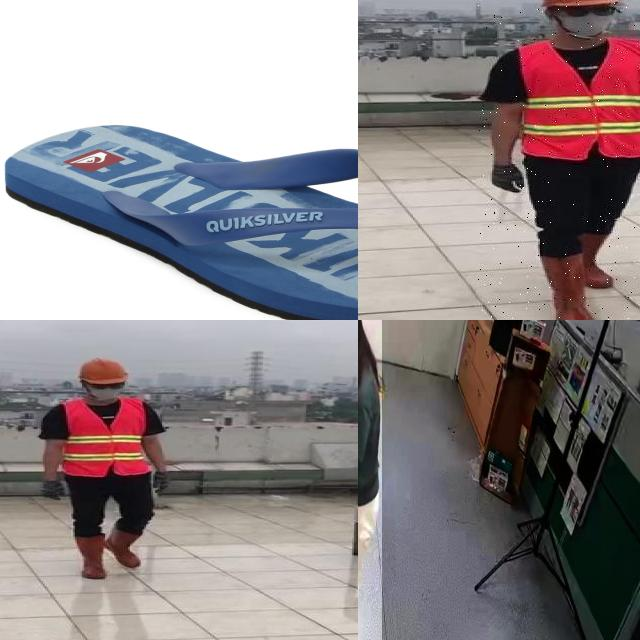Sandals: (2, 122, 358, 320)
boots: (539, 255, 600, 320), (578, 230, 616, 289), (69, 535, 107, 580), (105, 526, 144, 569)
head_helmet: (71, 356, 132, 387), (536, 0, 621, 10)
person: (476, 0, 640, 320), (38, 358, 178, 584), (358, 320, 382, 640)
vest: (518, 40, 640, 160), (63, 399, 154, 476)
